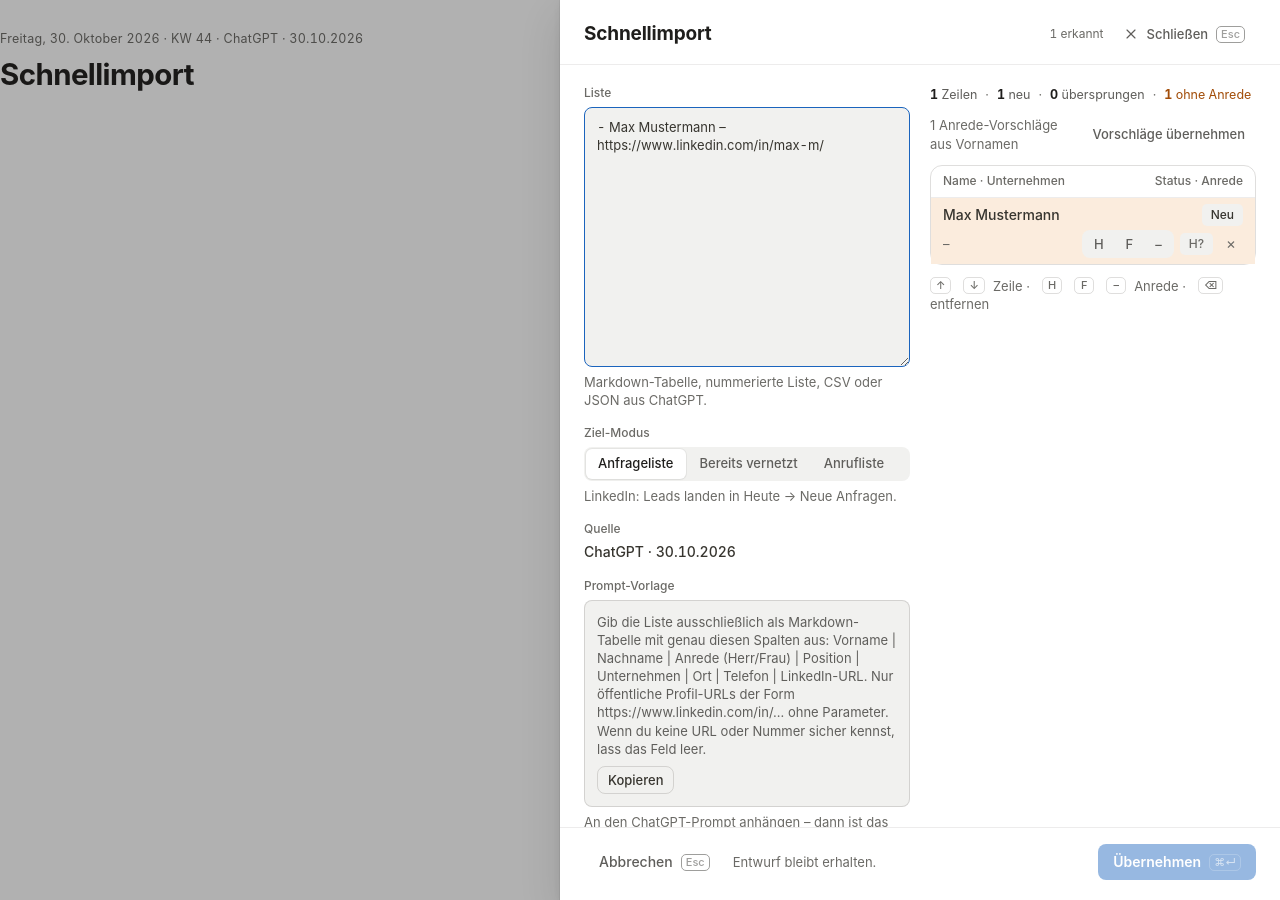
Scenario: Schnellimport › lädt den Entwurf aus localStorage und bietet Anrede-Vorschläge nur auf Klick an
Check: the text "H?" is shown, box top-left (1189, 236), bottom-right (1204, 251)
Check: the button "Übernehmen ⌘↵" is disabled, box top-left (1098, 844), bottom-right (1256, 880)
Click the button "Vorschläge übernehmen" at (1169,135), box top-left (1082, 121), bottom-right (1256, 149)
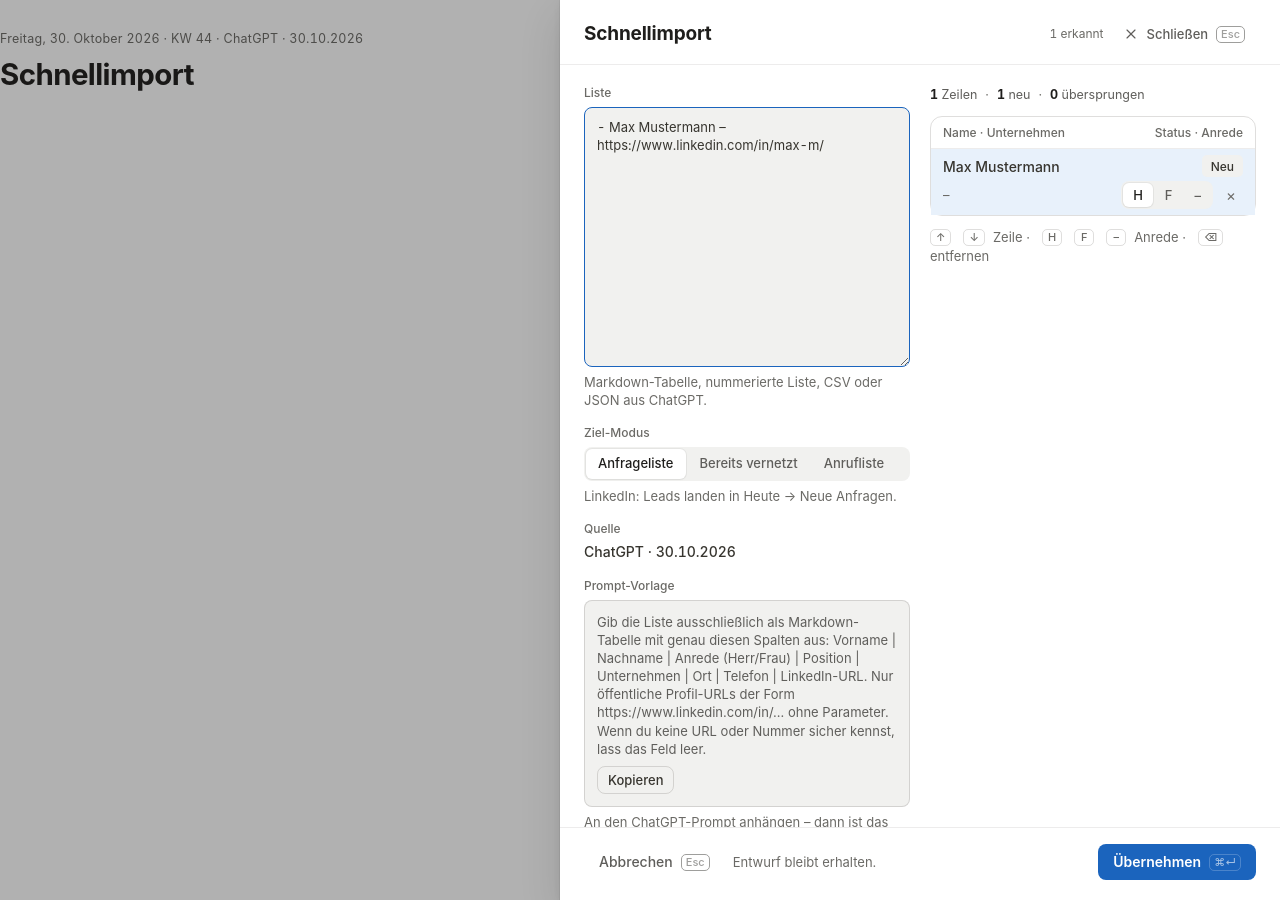
Check: the text "H?" is not shown
Check: the button "Übernehmen ⌘↵" is enabled, box top-left (1098, 844), bottom-right (1256, 880)
